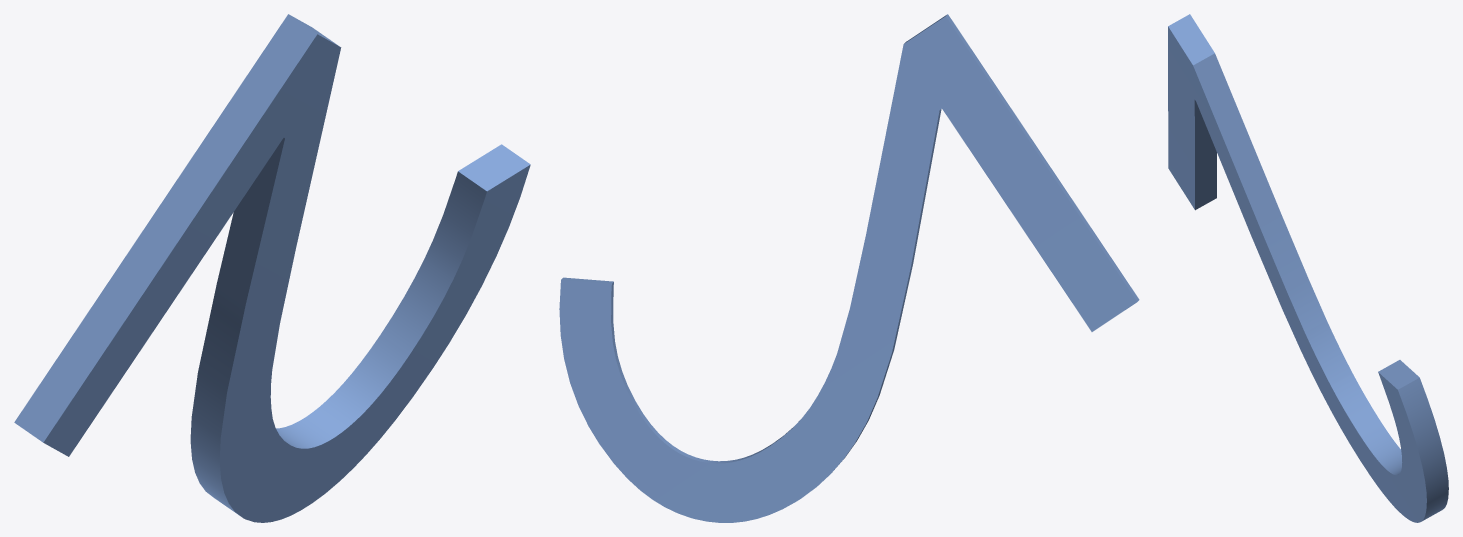
The model's file is New_Number_2.gltf.
The picture shows the model from 3 angles, left to right: view 1: azimuth 30°, elevation 25°; view 2: azimuth 150°, elevation 25°; view 3: azimuth 270°, elevation 25°; orthographic projection. The views are drawn at different scales.
Visible parts, largest first — view 1: Part 20; view 2: Part 20; view 3: Part 20.
Part boxes in pixels (x1=…): Part 20: x1=14, y1=14, x2=530, y2=522; Part 20: x1=559, y1=14, x2=1139, y2=522; Part 20: x1=1168, y1=14, x2=1448, y2=522.
Bounding box in the file's own units: 0.00519 × 0.00482 × 0.00277.
